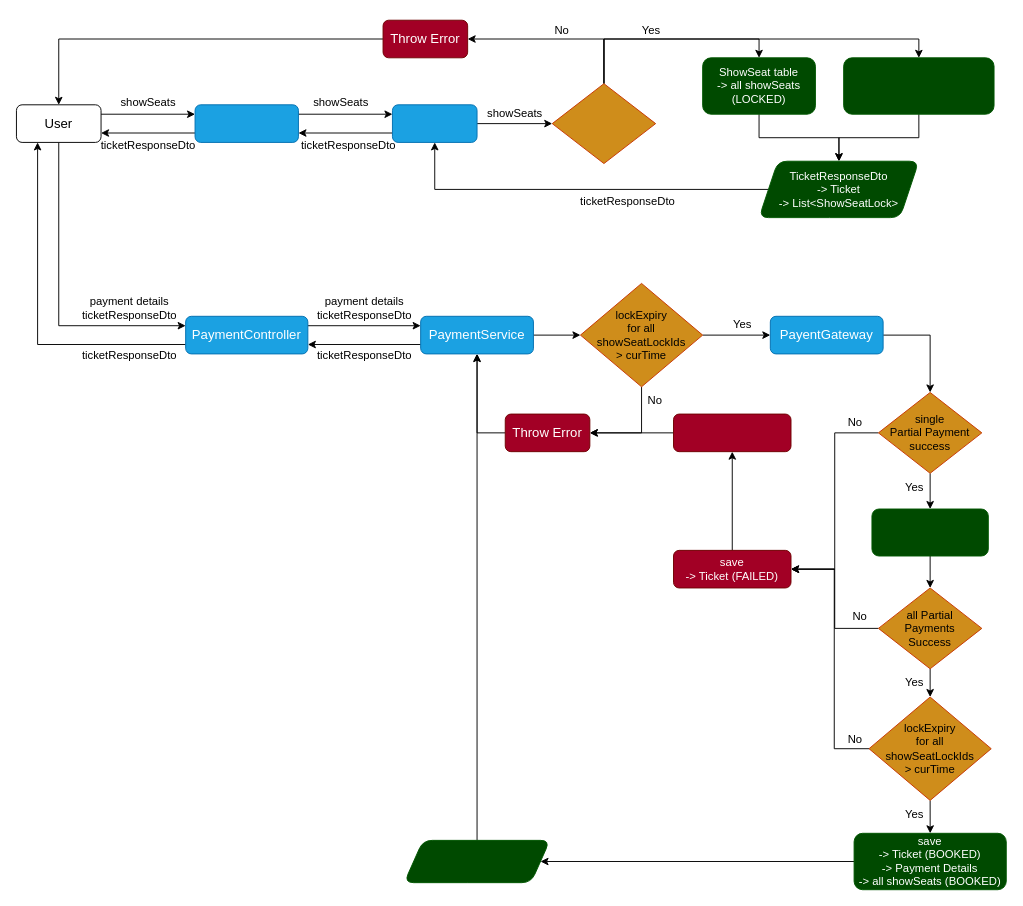
This 1023x906 diagram has some shape labels left out. Each missing label, with the centre of its shape:
for each showSeatId in ShowSeatLock table insert -> showSeatId -> lockExpiry: (918,85)
save -> Payment Details: (732,432)
save -> Ticket (PENDING) -> Payment Details: (929,532)
Show Seats Available: (603,123)
TicketController: (246,123)
TicketResponseDto -> Ticket: (476,861)
TicketService: (434,123)
